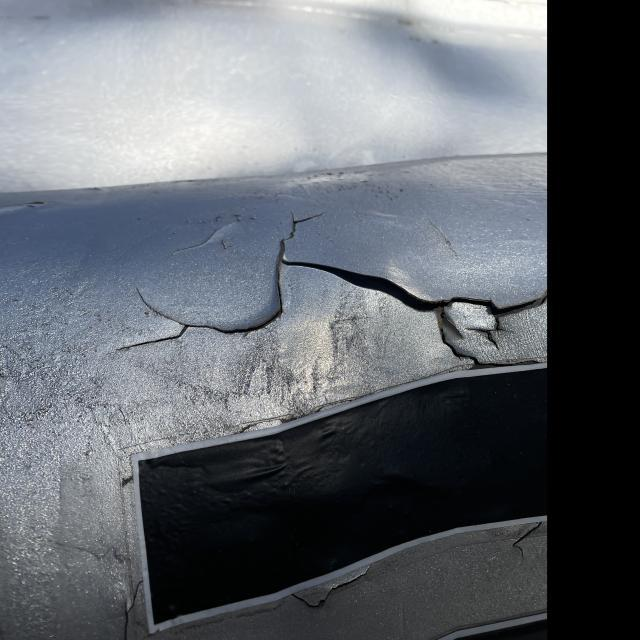crack: (289, 251, 546, 324), (108, 284, 285, 358), (248, 222, 344, 251)
